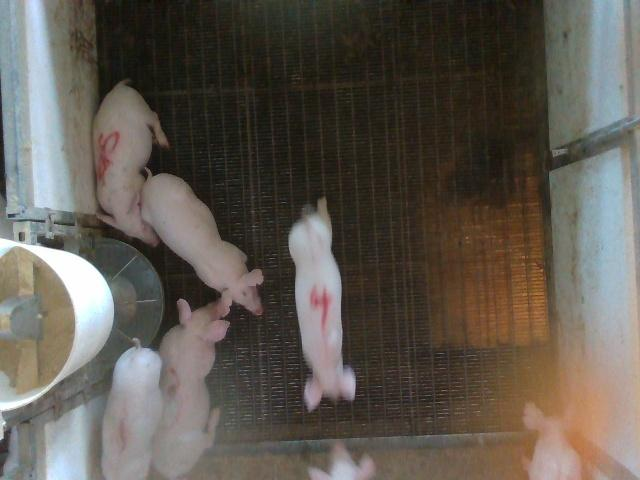pig-1: (102, 349, 162, 479)
pig-3: (152, 299, 229, 478)
pig-4: (289, 198, 355, 411)
pig-5: (94, 80, 169, 246)
